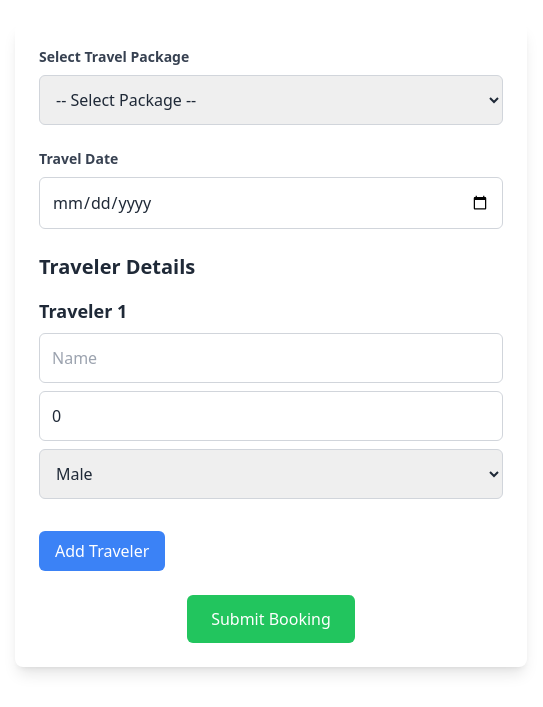
Test: TravelBookingPage › adds and removes travelers
Step 1. Click the button "Add Traveler" → (102, 551), box [39,531,165,571]
(page scrolled)
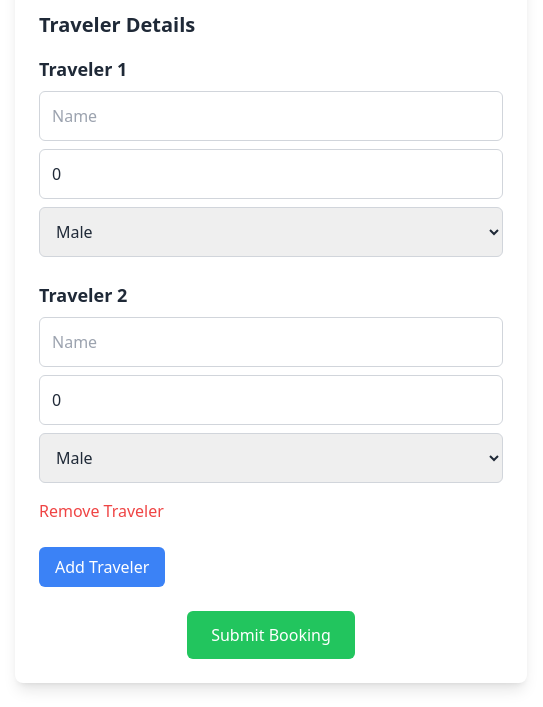
Step 2. Click the button "Remove Traveler" → (101, 511), box [39,499,164,523]
(page scrolled)
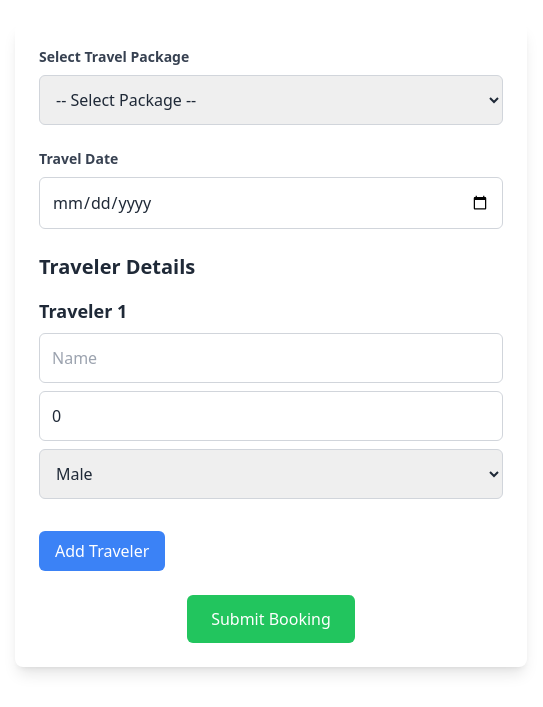
expect the number of fields with placeholder "Name" is 1: met, box [39,333,503,383]
